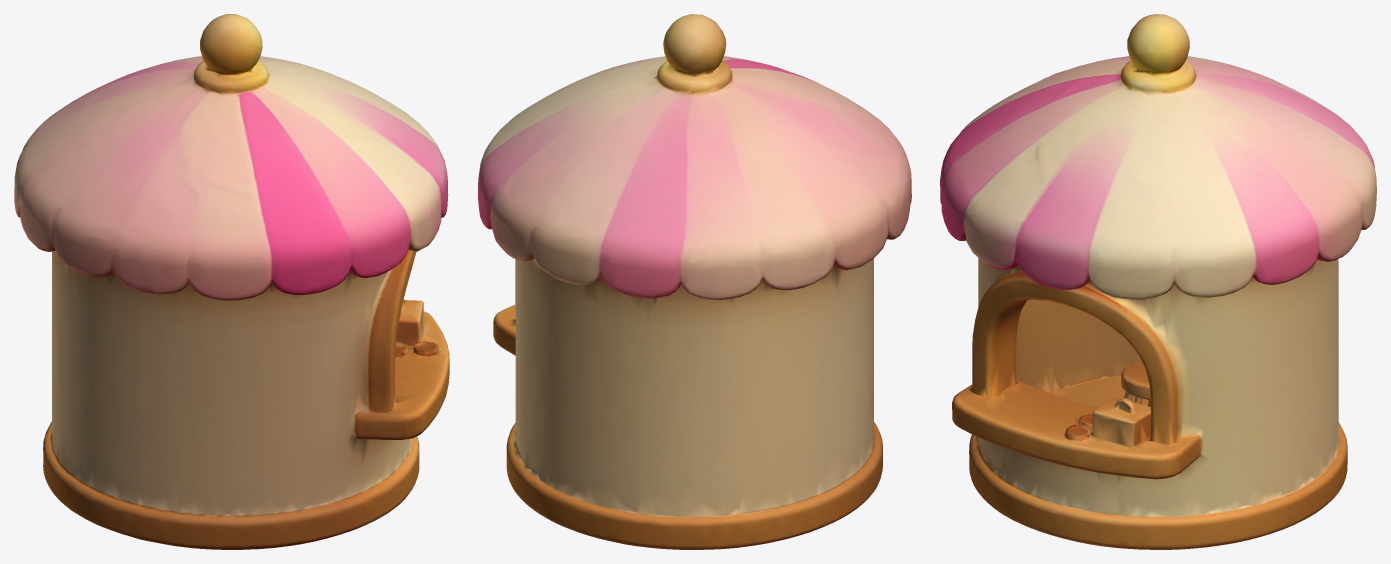
The model's file is ticket-booth.glb.
The picture shows the model from 3 angles, left to right: view 1: azimuth 30°, elevation 25°; view 2: azimuth 150°, elevation 25°; view 3: azimuth 270°, elevation 25°; orthographic projection.
Parts seen in each view (by area): view 1: tripo_node_7ae327d6-50a4-4c23-a61f-0175b5a94b6a; view 2: tripo_node_7ae327d6-50a4-4c23-a61f-0175b5a94b6a; view 3: tripo_node_7ae327d6-50a4-4c23-a61f-0175b5a94b6a.
Part boxes in pixels (left/top/right/bottom): tripo_node_7ae327d6-50a4-4c23-a61f-0175b5a94b6a: left=14, top=14, right=449, bottom=549; tripo_node_7ae327d6-50a4-4c23-a61f-0175b5a94b6a: left=478, top=14, right=911, bottom=549; tripo_node_7ae327d6-50a4-4c23-a61f-0175b5a94b6a: left=940, top=14, right=1376, bottom=549.
Bounding box in the file's own units: 0.8837 × 1 × 0.8636.
Materials: 1 (1 with a texture image).
